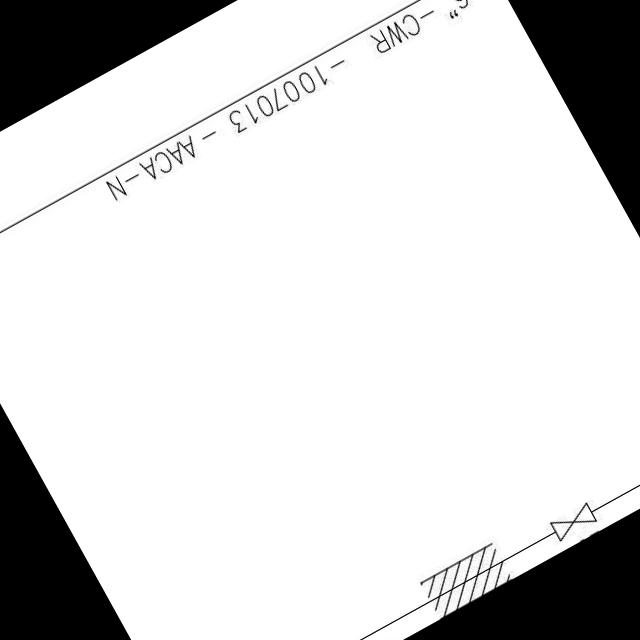GV: (542, 498, 605, 550)
